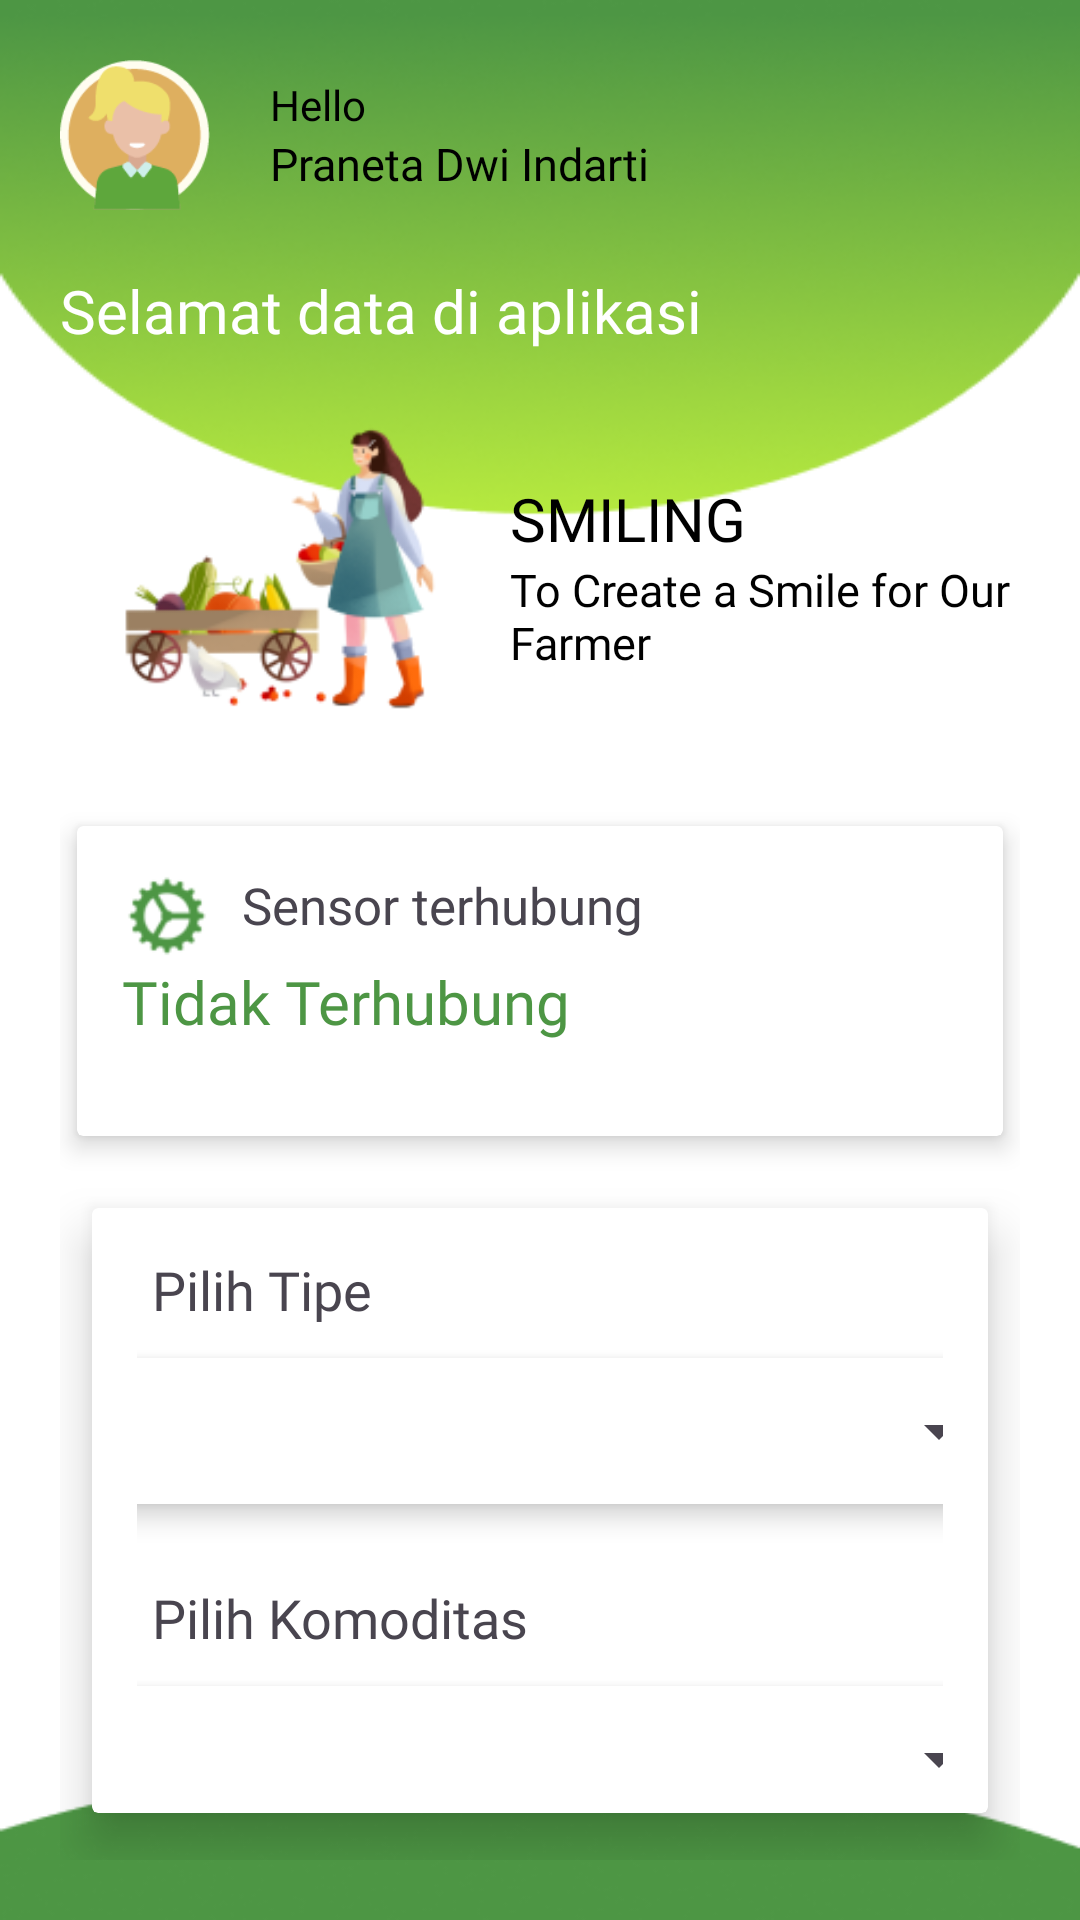

Point at icon controls on the screen. Image size 1080 × 1920, points as point (x, y).
setting: point (167, 916)
user photo profile: point (135, 135)
